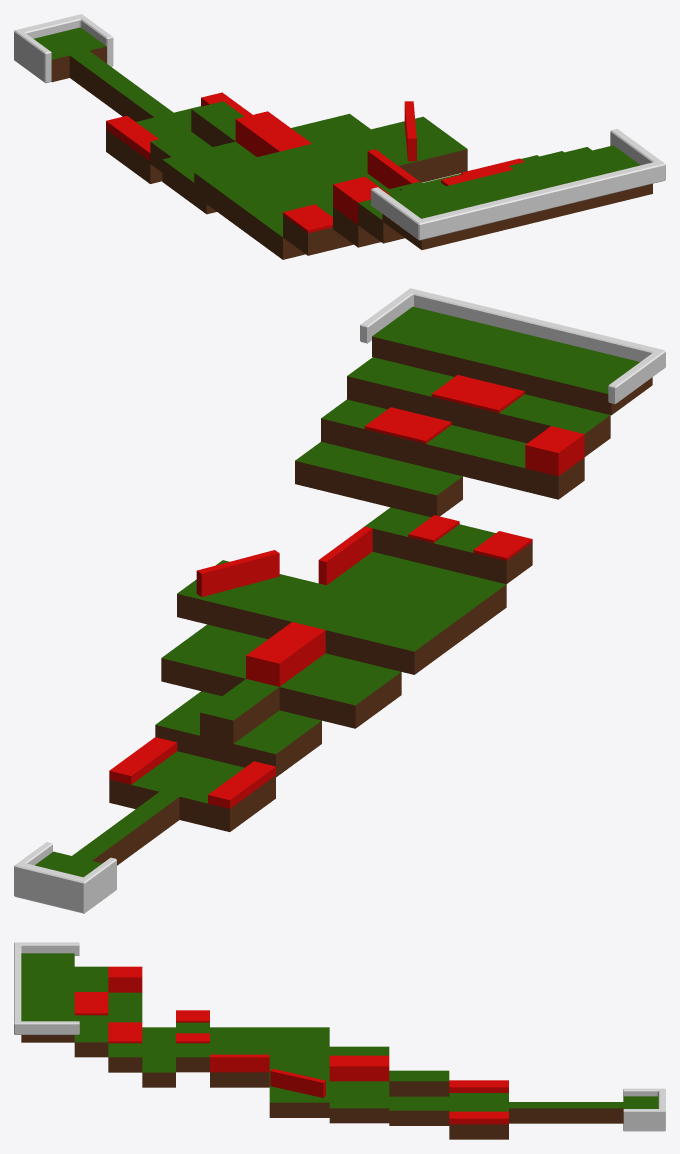
Rendered from Stage2.fbx.
3 views of the same model, one above another, from view 1: azimuth 30°, elevation 25°; view 2: azimuth 150°, elevation 25°; view 3: azimuth 270°, elevation 25° (orthographic). The views are drawn at different scales.
Visible parts, largest first — view 1: Ground6, Ground1, BarrierTop, Ground1.001, Ground1.006, Ground5, Ground2, BarrierBotttom, Cube.008, Ground1.002, Cube.004, Ground4 (+8 smaller); view 2: Ground2, Ground6, Ground1, Ground1.006, Ground1.001, Ground3, Ground5, BarrierTop, Ground1.007, Ground4, BarrierBotttom, Cube.004 (+10 smaller); view 3: Ground1.001, Ground6, Ground2, Ground1, Ground1.006, Ground5, BarrierTop, Ground3, Ground1.007, Cube.004, Cube.008, BarrierBotttom (+11 smaller).
Boxes of the visible parts, x1,y1,x2,y2 form: Ground6: (194, 116, 467, 227); Ground1: (382, 145, 652, 249); BarrierTop: (371, 128, 665, 240); Ground1.001: (69, 51, 201, 183); Ground1.006: (162, 113, 370, 214); Ground5: (238, 173, 388, 259); Ground2: (333, 147, 591, 247); BarrierBotttom: (14, 14, 113, 83); Cube.008: (235, 111, 311, 156); Ground1.002: (33, 27, 106, 82); Cube.004: (191, 101, 244, 146); Ground4: (283, 181, 421, 255); Ground2: (321, 357, 610, 499); Ground6: (177, 560, 460, 674); Ground1: (372, 306, 652, 415); Ground1.006: (161, 624, 401, 728); Ground1.001: (72, 751, 275, 865); Ground3: (295, 442, 462, 517); Ground5: (327, 551, 506, 640); BarrierTop: (360, 288, 665, 403); Ground1.007: (155, 691, 321, 777); Ground4: (365, 507, 532, 584); BarrierBotttom: (14, 842, 116, 913); Cube.004: (200, 679, 279, 743); Ground1.001: (449, 1093, 623, 1139); Ground6: (269, 1027, 329, 1117); Ground2: (74, 966, 142, 1072); Ground1: (21, 953, 74, 1042); Ground1.006: (329, 1046, 389, 1123); Ground5: (210, 1027, 269, 1087); BarrierTop: (14, 942, 79, 1034); Ground3: (142, 1027, 175, 1087); Ground1.007: (389, 1096, 449, 1125); Cube.004: (389, 1070, 449, 1096); Cube.008: (329, 1055, 389, 1081); BarrierBotttom: (623, 1088, 665, 1131).
Size of the model in its own units: 753 by 609 by 2549.
